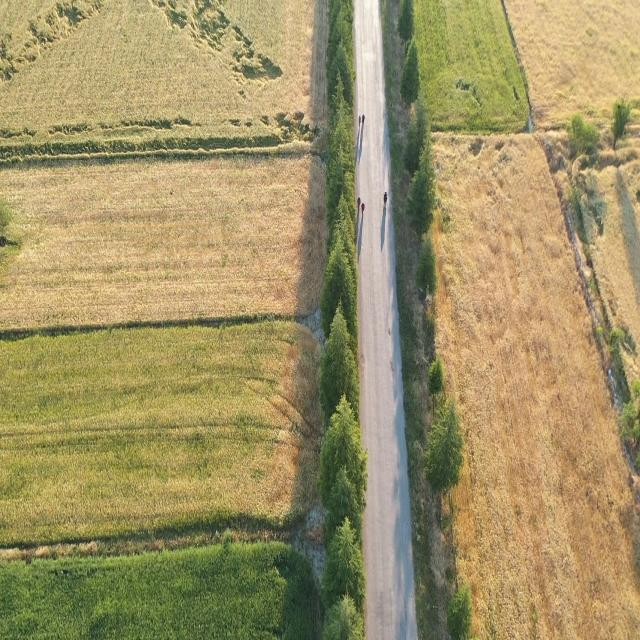vehicle: (383, 191, 388, 207), (360, 113, 366, 126), (360, 201, 366, 213), (358, 115, 361, 128), (358, 196, 360, 210)
